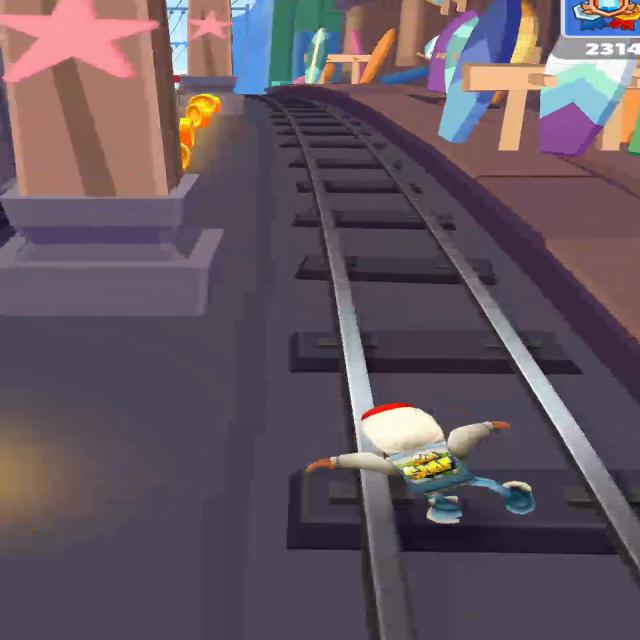block pillar: (0, 0, 221, 314), (180, 0, 243, 117)
